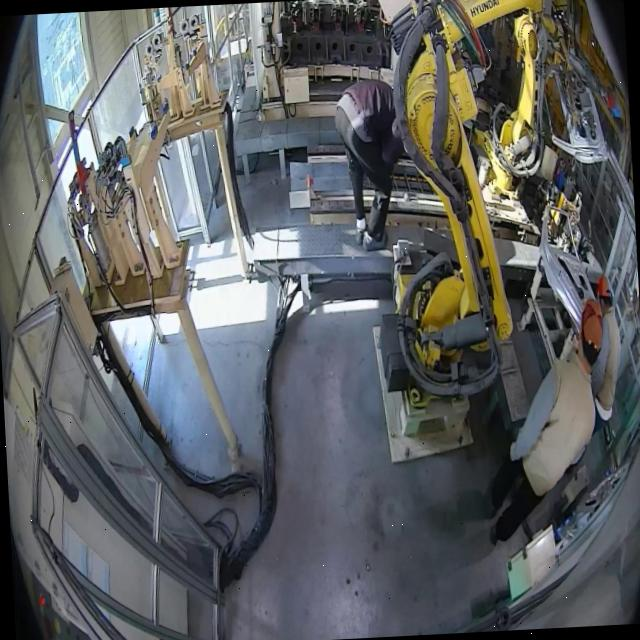Person: (475, 276, 631, 546), (333, 77, 410, 252), (594, 274, 624, 428)
